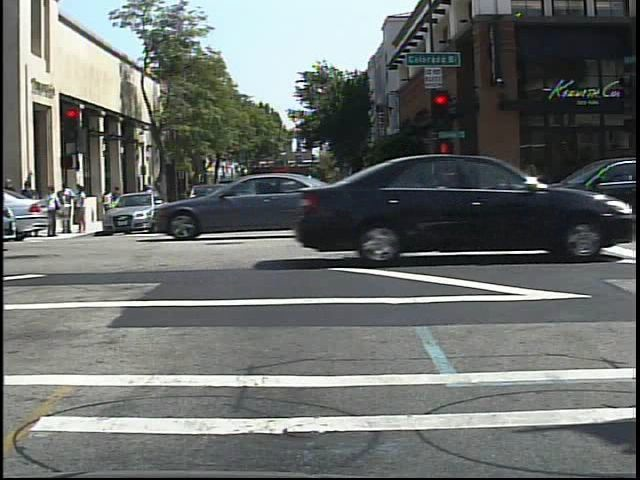person: (102, 186, 117, 224), (138, 181, 153, 211), (142, 181, 156, 213)
